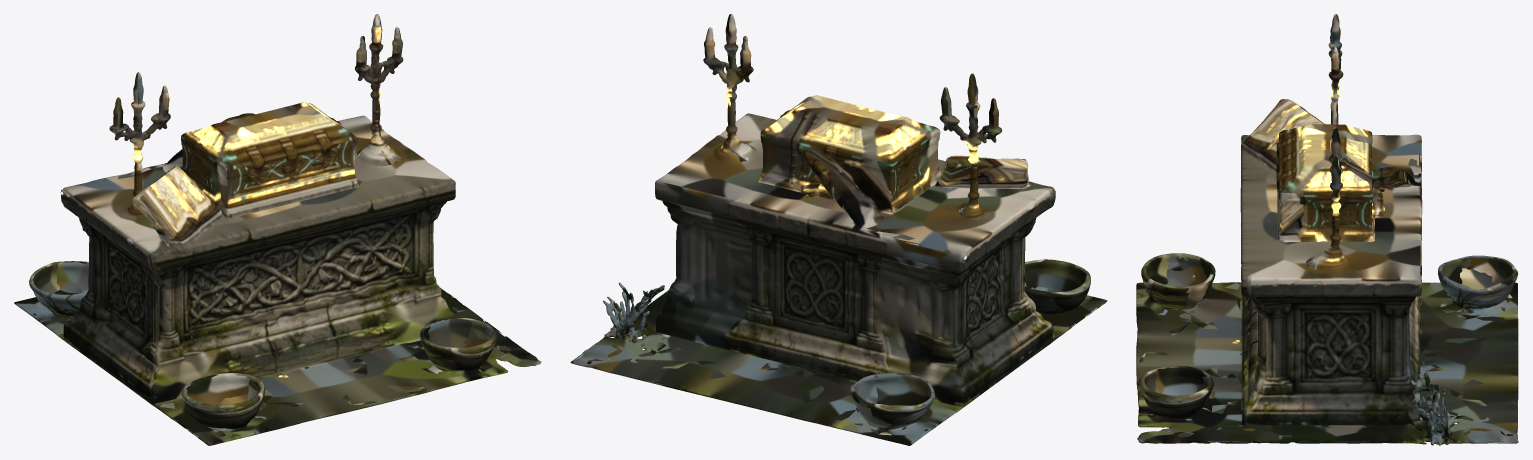
File: struct_altar_relic.glb
3 views of the same model, side by side, from view 1: azimuth 30°, elevation 25°; view 2: azimuth 150°, elevation 25°; view 3: azimuth 270°, elevation 25° (orthographic). The views are drawn at different scales.
Visible parts, largest first — view 1: geometry_0; view 2: geometry_0; view 3: geometry_0.
Boxes of the visible parts, x1=… form: geometry_0: x1=14, y1=14, x2=541, y2=445; geometry_0: x1=570, y1=14, x2=1107, y2=445; geometry_0: x1=1136, y1=14, x2=1518, y2=445.
Bounding box in the file's own units: 4.41 × 3.6 × 4.34.
Materials: 1 (1 with a texture image).
